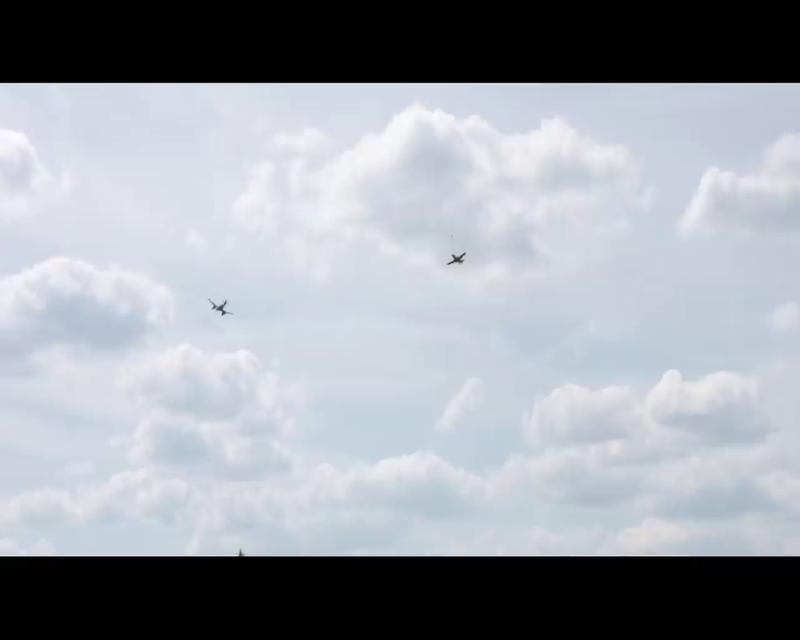UAV: (207, 297, 233, 316), (445, 250, 466, 266)
